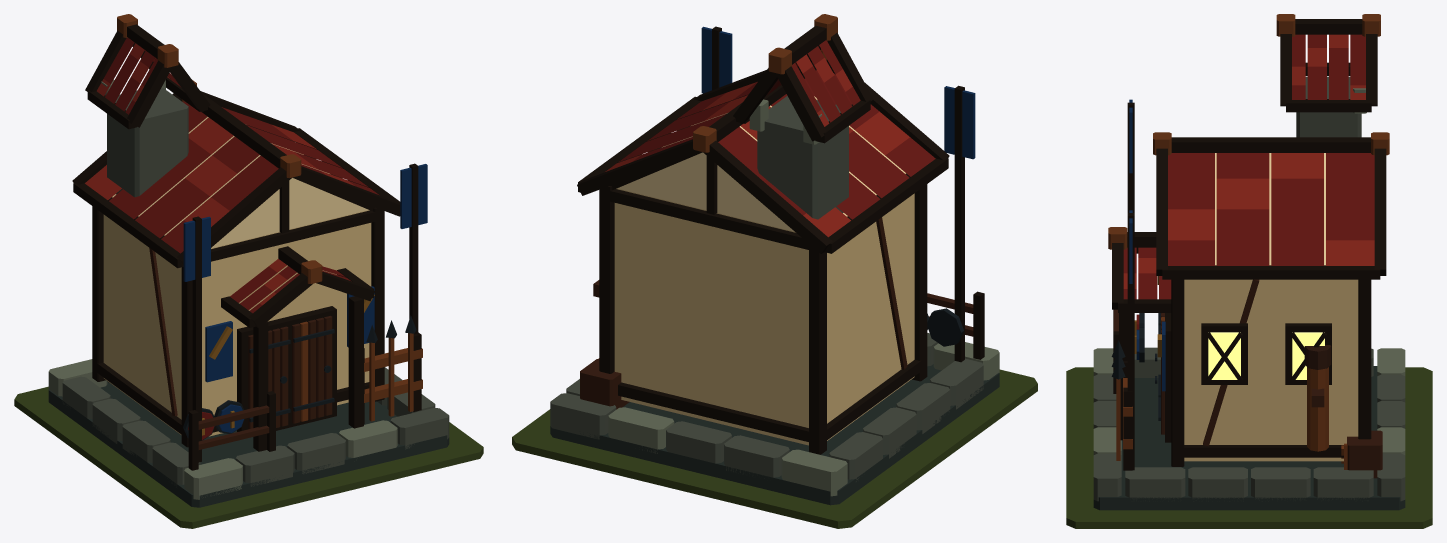
Rendered from barracks_t6.glb.
3 views of the same model, side by side, from view 1: azimuth 30°, elevation 25°; view 2: azimuth 150°, elevation 25°; view 3: azimuth 270°, elevation 25° (orthographic). The views are drawn at different scales.
Parts seen in each view (by area): view 1: MMR | barracks | T06 Architecture.001, MMR | barracks | Tier 06 Ground.001; view 2: MMR | barracks | T06 Architecture.001, MMR | barracks | Tier 06 Ground.001; view 3: MMR | barracks | T06 Architecture.001, MMR | barracks | Tier 06 Ground.001.
Boxes of the visible parts, x1,y1,x2,y2 form: MMR | barracks | T06 Architecture.001: (48, 14, 449, 507); MMR | barracks | Tier 06 Ground.001: (14, 386, 483, 528); MMR | barracks | T06 Architecture.001: (550, 14, 999, 505); MMR | barracks | Tier 06 Ground.001: (512, 369, 1037, 528); MMR | barracks | T06 Architecture.001: (1093, 14, 1405, 510); MMR | barracks | Tier 06 Ground.001: (1066, 367, 1432, 528).
Bounding box in the file's own units: 2.35 × 2.85 × 2.35.
Materials: 2 (1 with a texture image).
